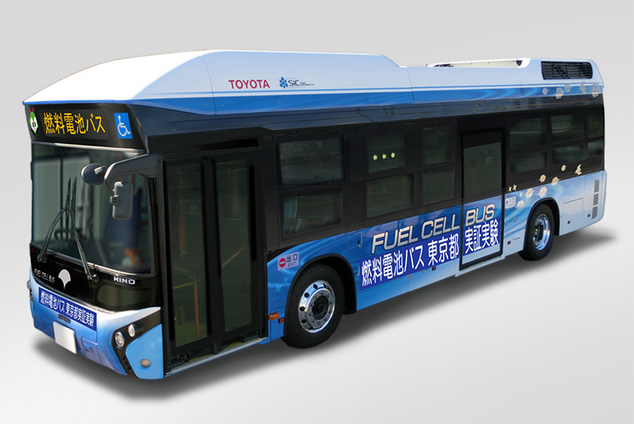bus: (21, 46, 609, 381)
